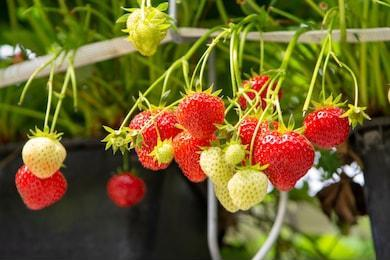Fresa: (252, 125, 320, 195), (126, 102, 179, 173), (169, 123, 223, 186), (13, 158, 73, 214), (173, 88, 229, 143), (300, 101, 357, 152)
